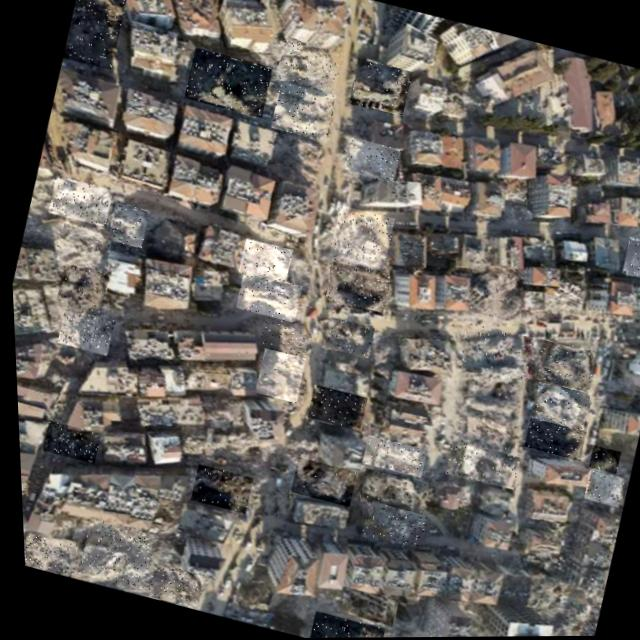Rubble: (180, 47, 273, 118), (69, 517, 151, 590), (451, 322, 534, 385), (59, 0, 130, 70), (323, 204, 393, 270), (447, 365, 522, 425), (267, 81, 336, 142), (319, 258, 390, 316), (345, 58, 412, 118), (439, 440, 516, 491), (272, 38, 343, 93), (459, 266, 525, 323), (528, 338, 594, 394), (230, 271, 300, 323), (517, 408, 584, 462), (351, 467, 424, 516), (446, 405, 516, 456), (43, 175, 111, 227), (49, 219, 112, 274), (523, 379, 588, 432), (284, 457, 352, 507), (183, 464, 249, 514), (354, 501, 422, 549), (49, 263, 107, 317), (249, 348, 303, 403), (301, 384, 364, 431), (139, 561, 199, 610), (51, 307, 112, 355), (356, 435, 422, 479), (340, 137, 399, 184), (233, 237, 290, 285), (36, 420, 97, 464), (252, 315, 311, 360), (329, 586, 391, 627), (19, 531, 73, 577), (318, 315, 372, 360), (102, 201, 148, 248), (300, 610, 377, 638), (577, 470, 620, 508), (616, 236, 640, 286), (582, 446, 616, 475)
